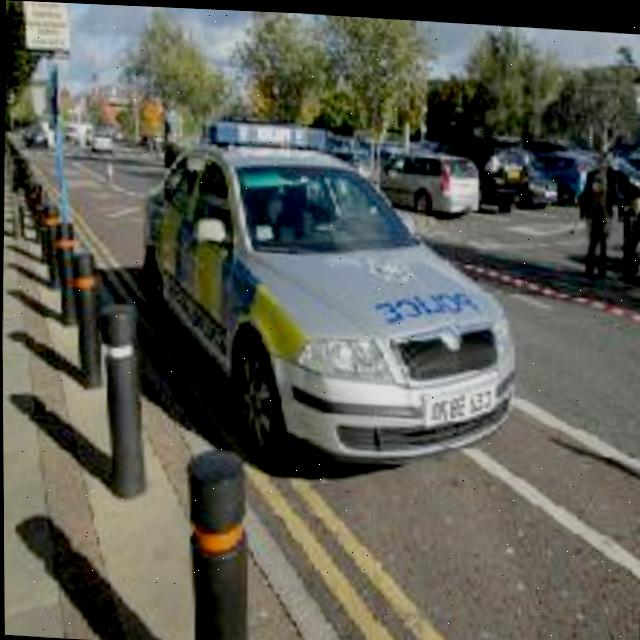emergency: (173, 111, 504, 446)
